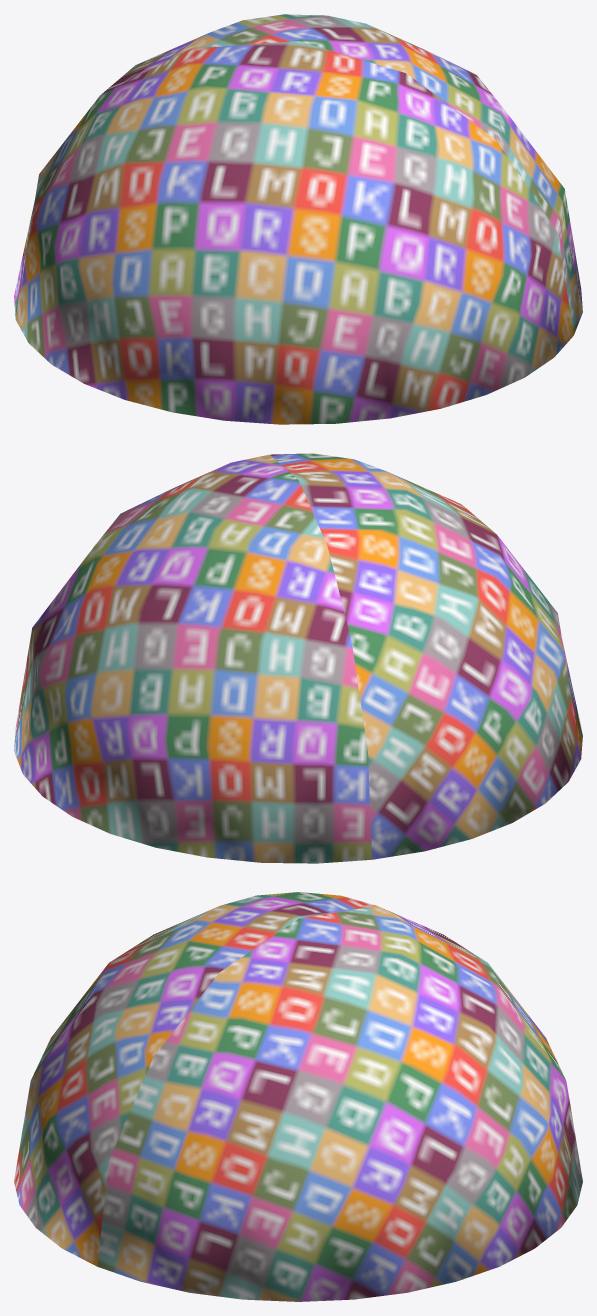
File: hemisphere.dae
The picture shows the model from 3 angles, top to bottom: view 1: azimuth 30°, elevation 25°; view 2: azimuth 150°, elevation 25°; view 3: azimuth 270°, elevation 25°; orthographic projection.
Parts seen in each view (by area): view 1: sphere1-0; view 2: sphere1-0; view 3: sphere1-0.
Part boxes in pixels (x1=…): sphere1-0: x1=14, y1=14, x2=582, y2=424; sphere1-0: x1=14, y1=453, x2=582, y2=863; sphere1-0: x1=14, y1=892, x2=582, y2=1301.
Size of the model in its own units: 1.96 by 1 by 1.96.
